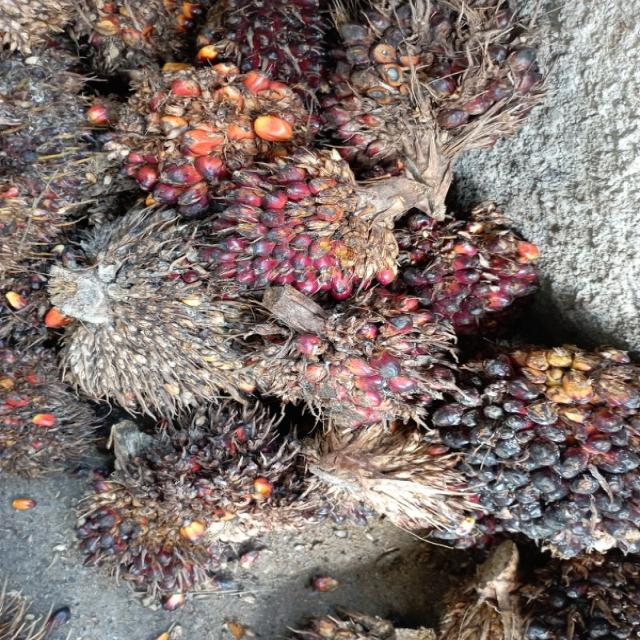fraksi 1: (184, 124, 465, 332)
